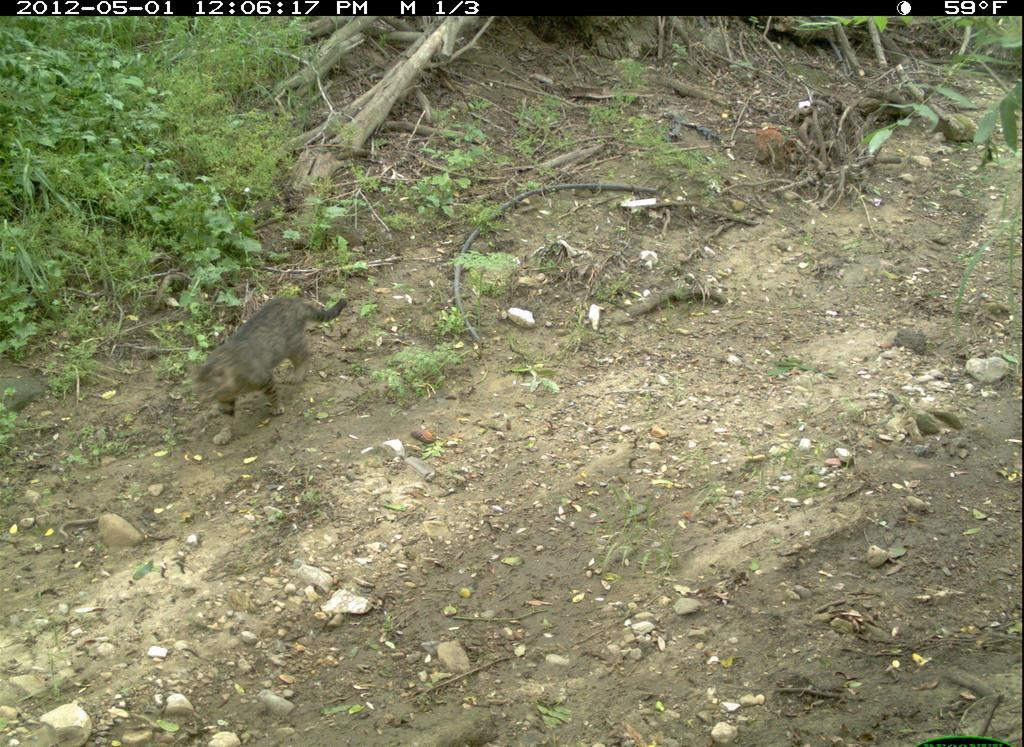cat: (178, 289, 353, 454)
